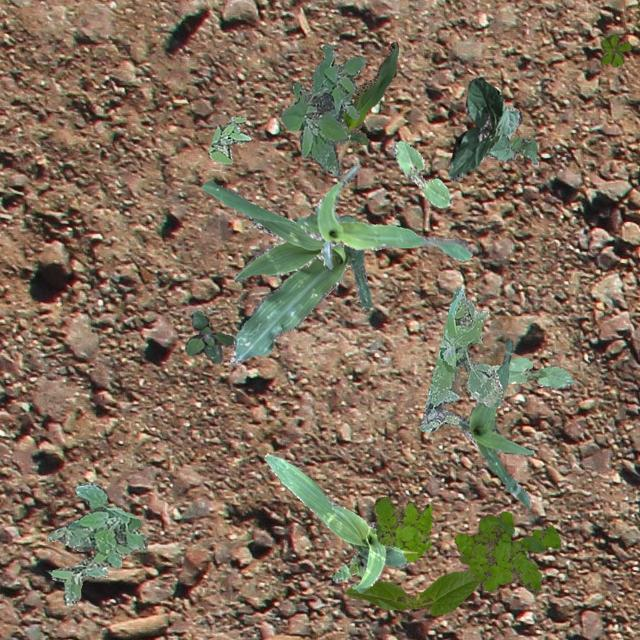crop: (200, 180, 370, 364), (264, 452, 408, 592), (296, 164, 470, 268), (452, 336, 532, 506), (448, 76, 522, 180), (344, 570, 480, 614), (342, 40, 398, 144), (392, 140, 452, 207), (491, 356, 574, 386), (488, 132, 538, 164)
weed: (46, 480, 146, 604), (418, 286, 502, 432), (280, 42, 364, 176), (454, 510, 560, 592), (372, 496, 430, 560), (185, 308, 232, 362), (208, 114, 250, 164), (600, 34, 630, 66)
